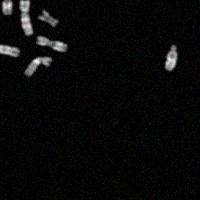chromosome: (24, 57, 51, 77), (36, 36, 66, 54), (19, 0, 33, 36), (37, 9, 58, 26), (164, 44, 177, 71), (0, 42, 20, 57), (1, 0, 12, 15)
